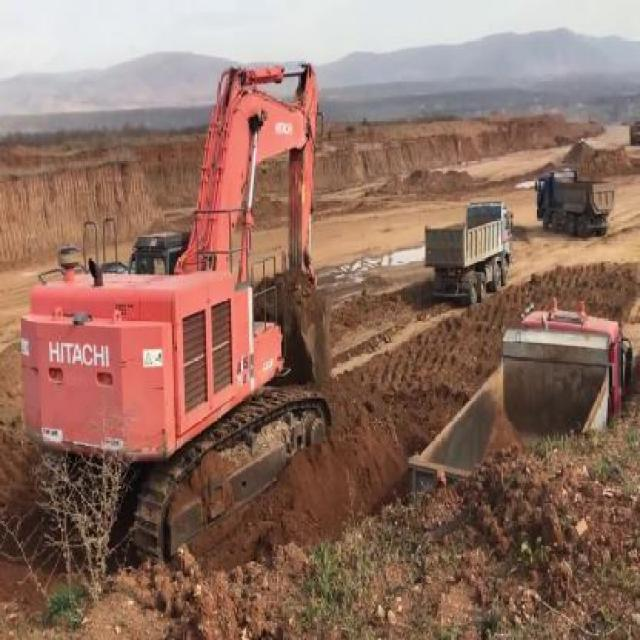Dump Truck: (409, 296, 633, 502), (424, 201, 514, 304), (534, 167, 615, 238)
Excavator: (19, 59, 332, 572)
